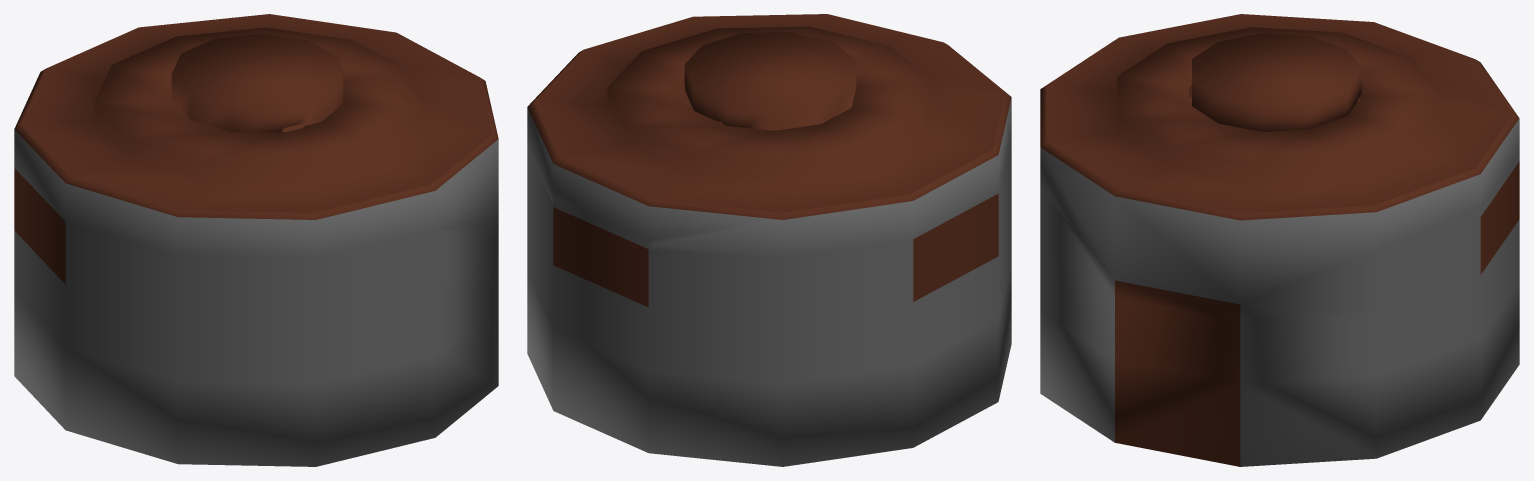
The model's file is house.glb.
The picture shows the model from 3 angles, left to right: view 1: azimuth 30°, elevation 25°; view 2: azimuth 150°, elevation 25°; view 3: azimuth 270°, elevation 25°; orthographic projection.
Visible parts, largest first — view 1: Cylinder; view 2: Cylinder; view 3: Cylinder.
Part boxes in pixels (x1=…): Cylinder: x1=14, y1=14, x2=498, y2=466; Cylinder: x1=527, y1=14, x2=1011, y2=466; Cylinder: x1=1040, y1=14, x2=1519, y2=466.
Bounding box in the file's own units: 2.38 × 1.6 × 2.35.
